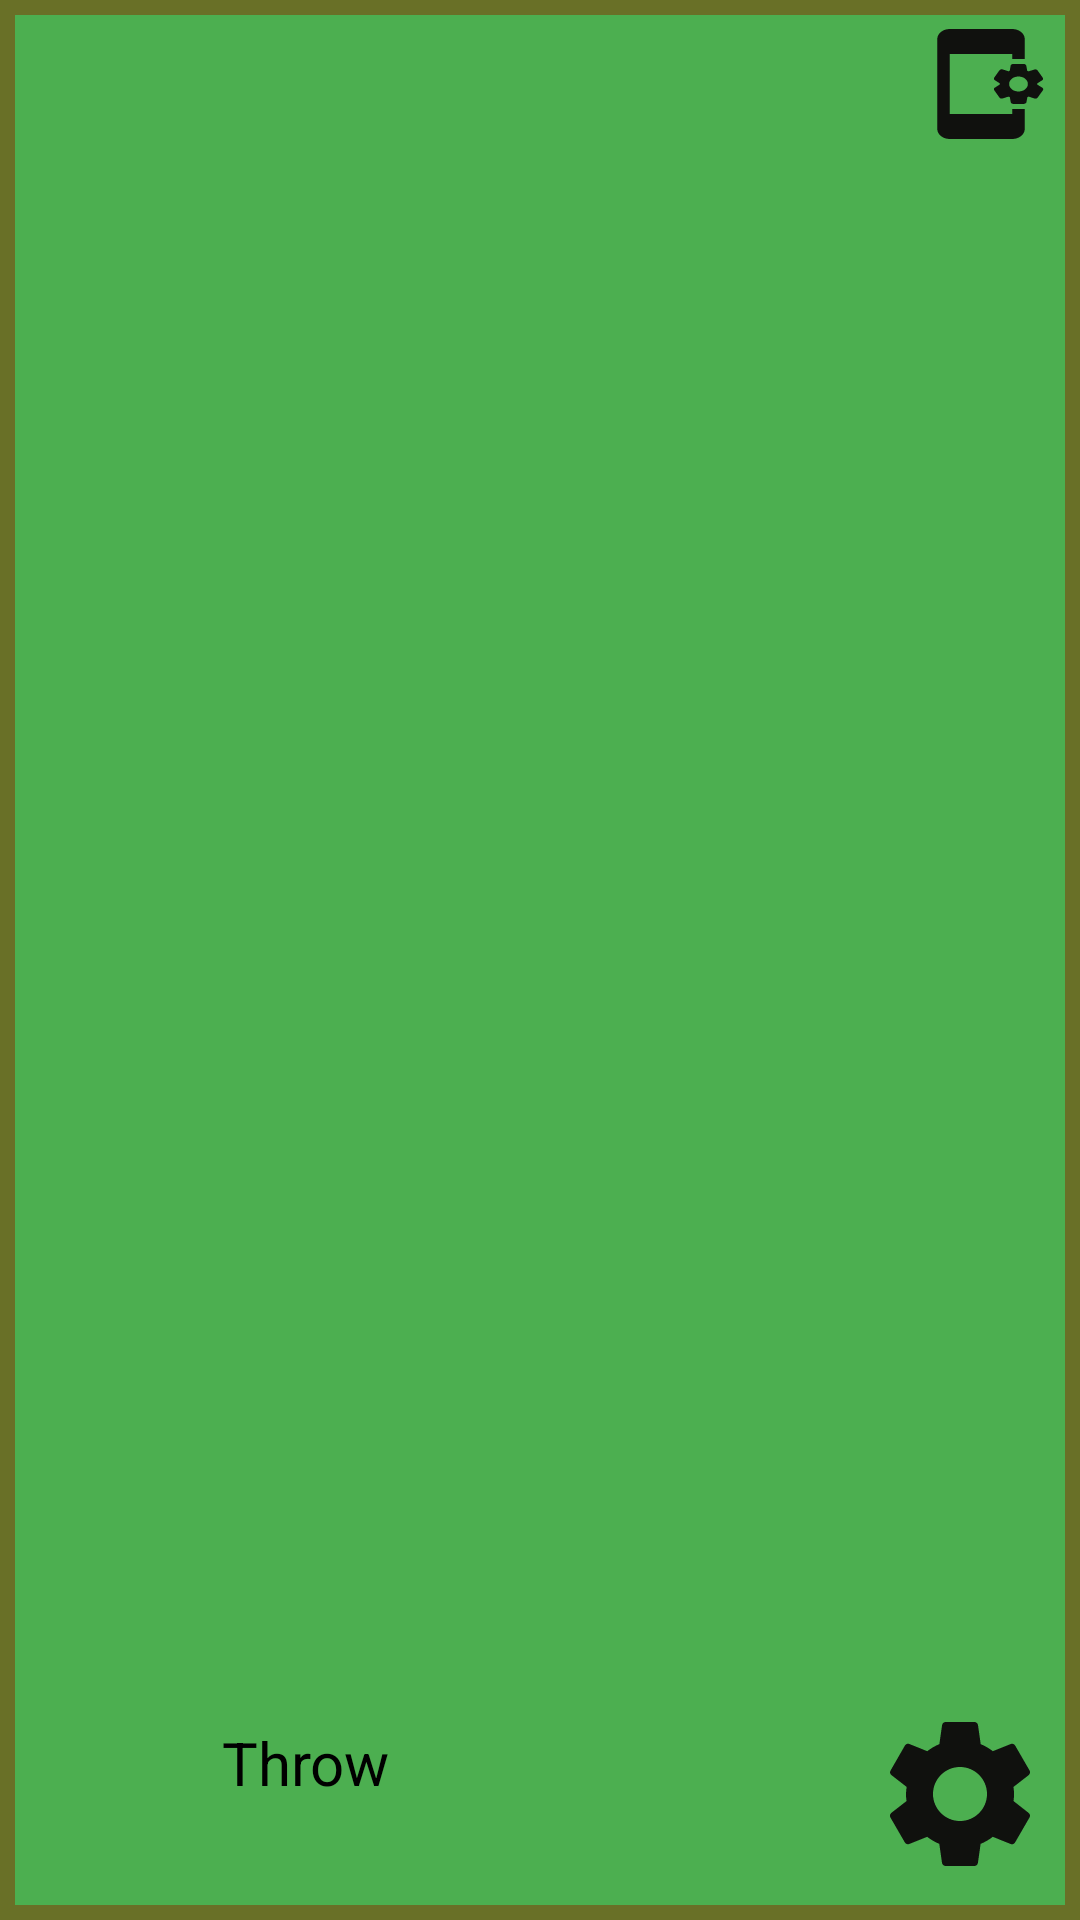

Screen size 1080px×1920px. Icon name, then its center in pixels as (x=x, y=y):
settings: (x=990, y=84), (x=960, y=1794)
